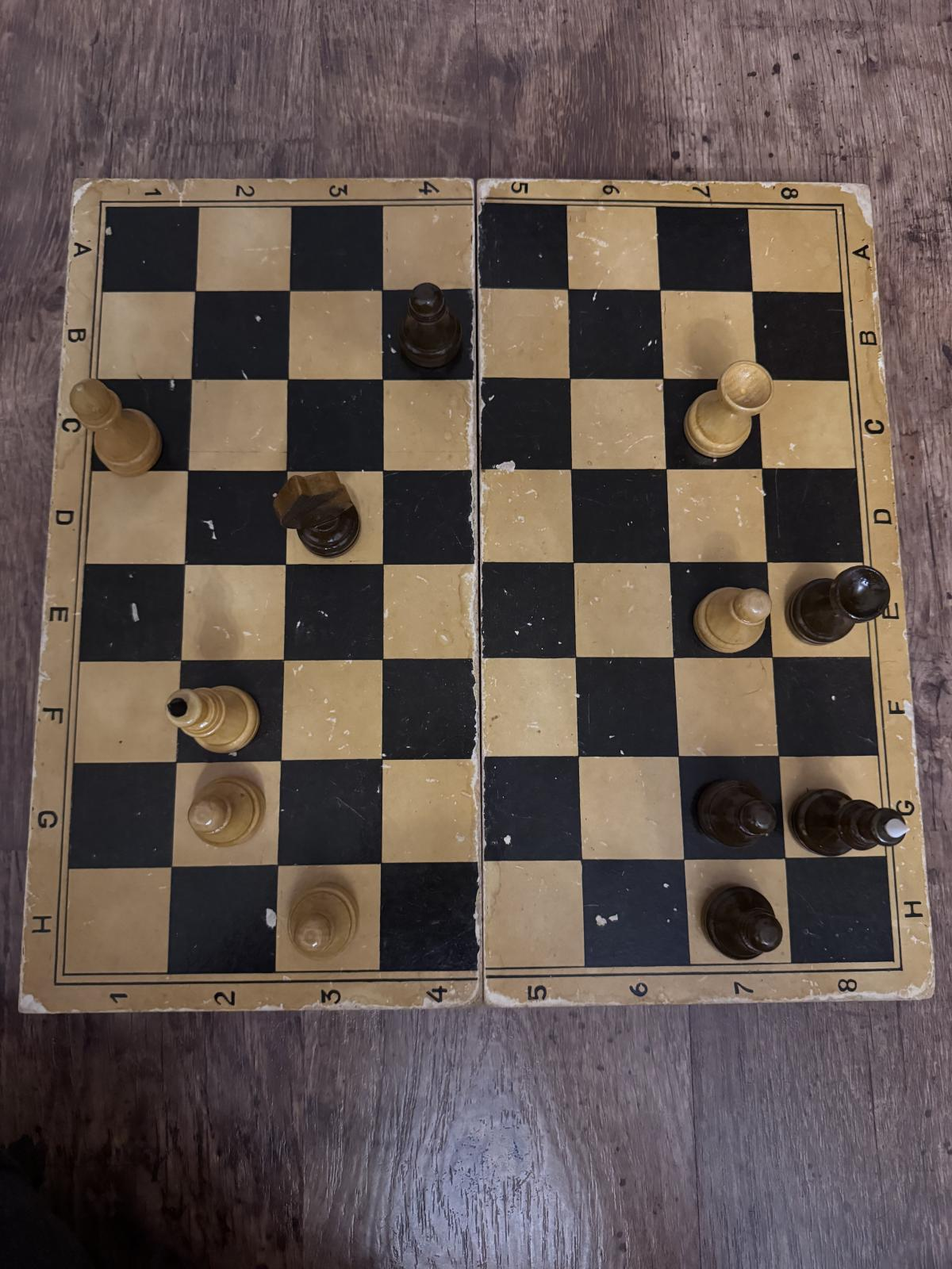Chess-Board: (64, 207, 893, 974)
